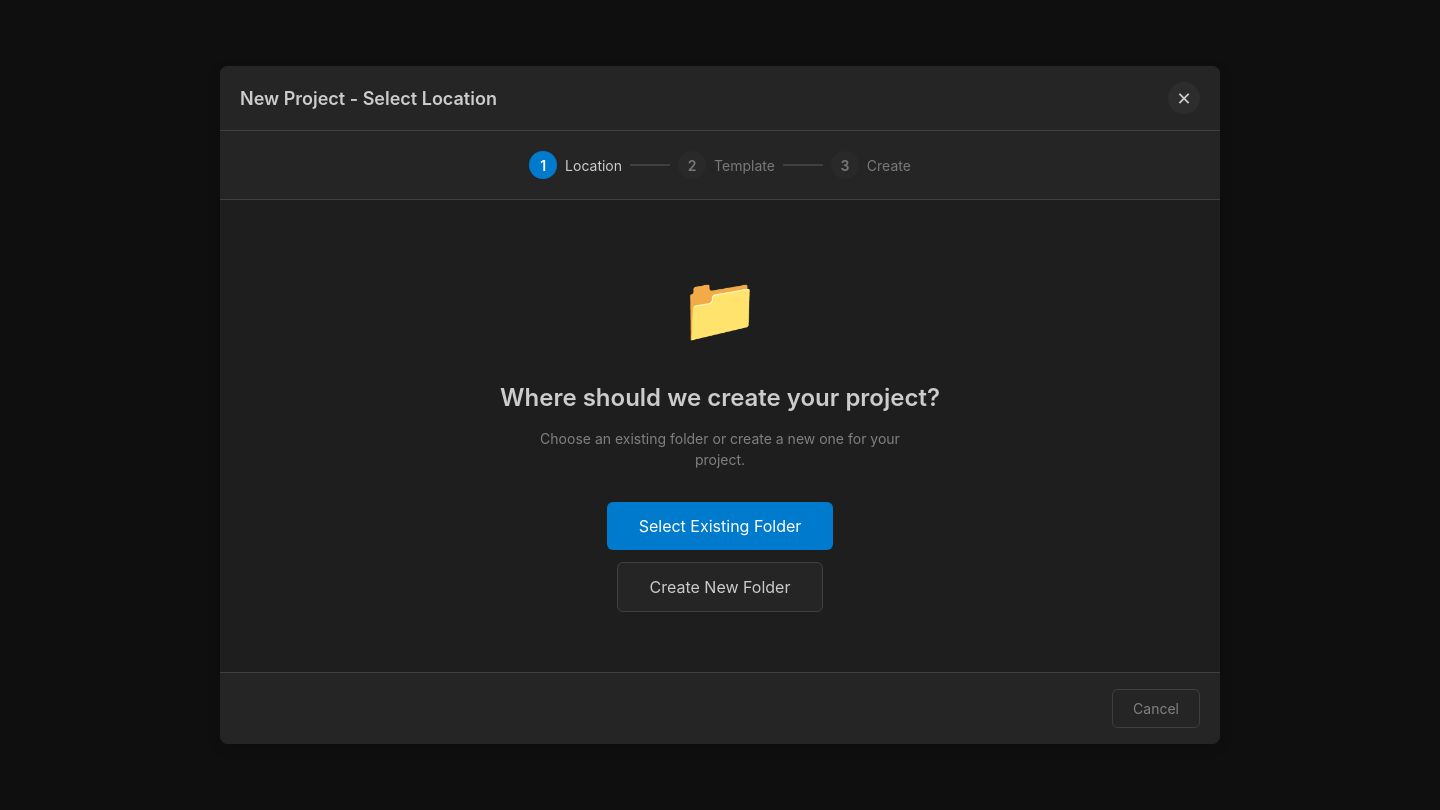
Test: NewProjectWizard › advances to preview after template is selected
# Select folder
Click the button "Select Existing Folder" at (720, 526), box [607,502,833,550]
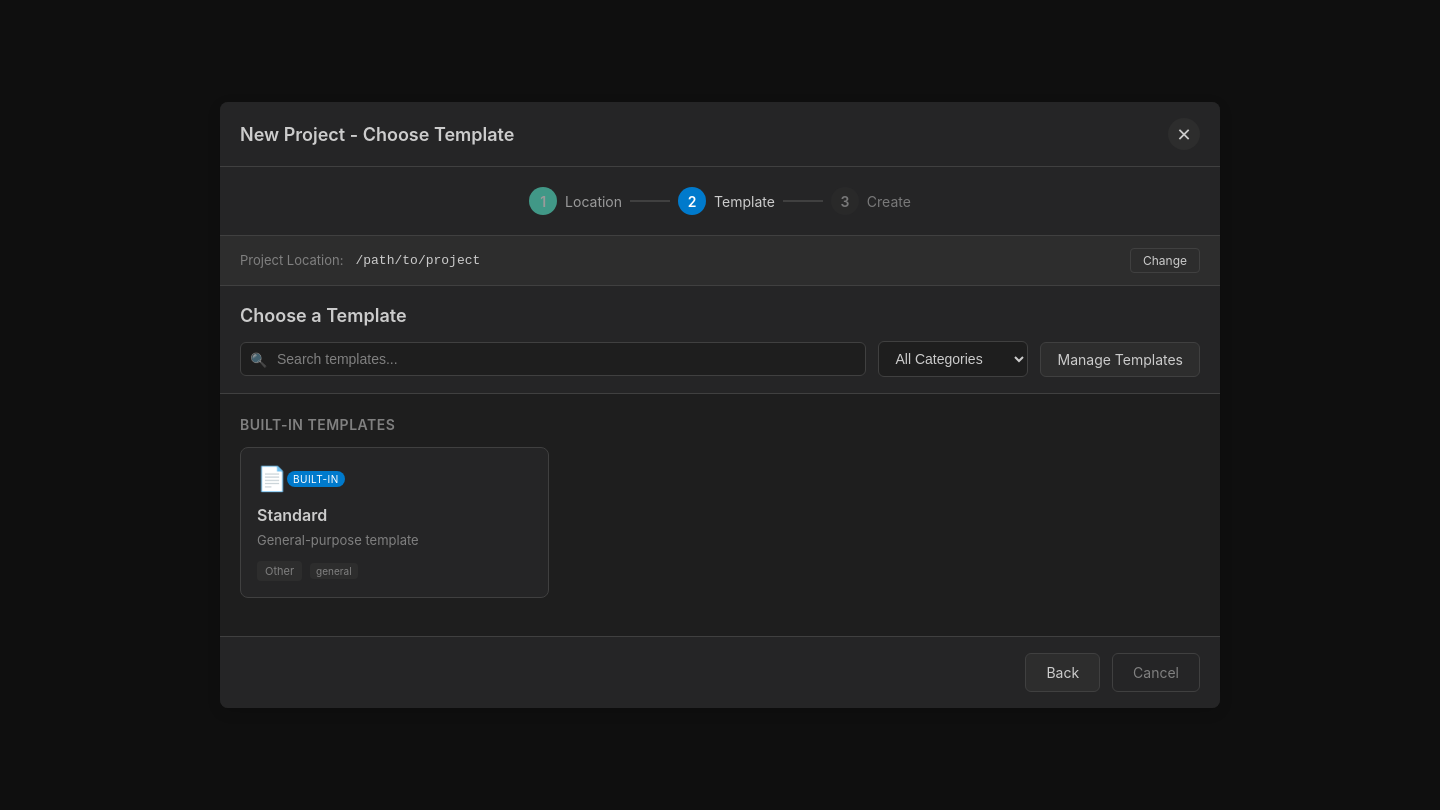
Check: the heading "New Project - Choose Template" is shown, box [240,120,514,148]
# Select template
Click the heading "Standard" at (292, 515), box [257,505,327,525]
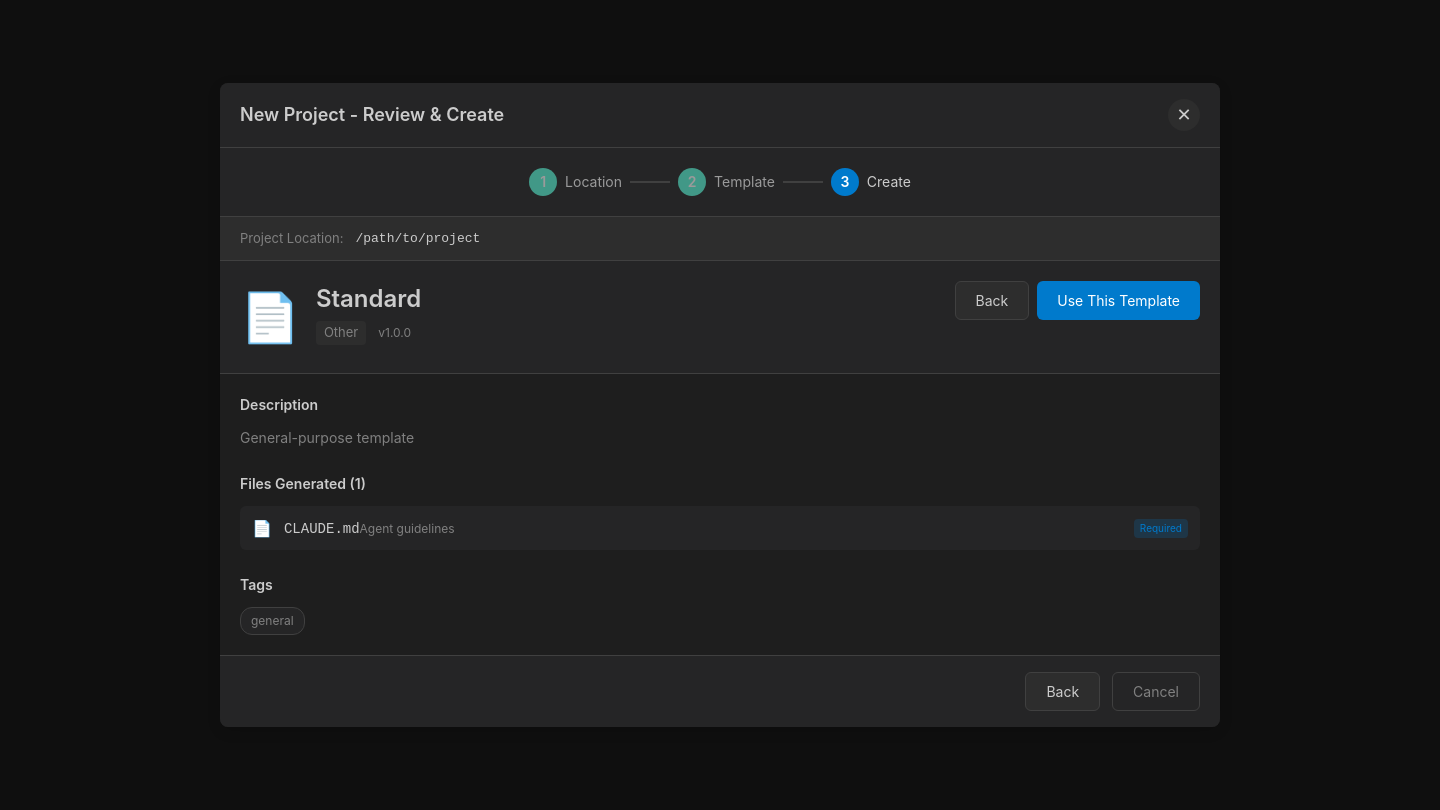
Check: the heading "New Project - Review & Create" is shown, box [240,101,504,128]
